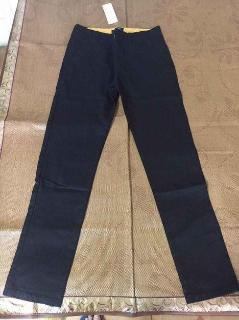trousers: (3, 24, 239, 307)
